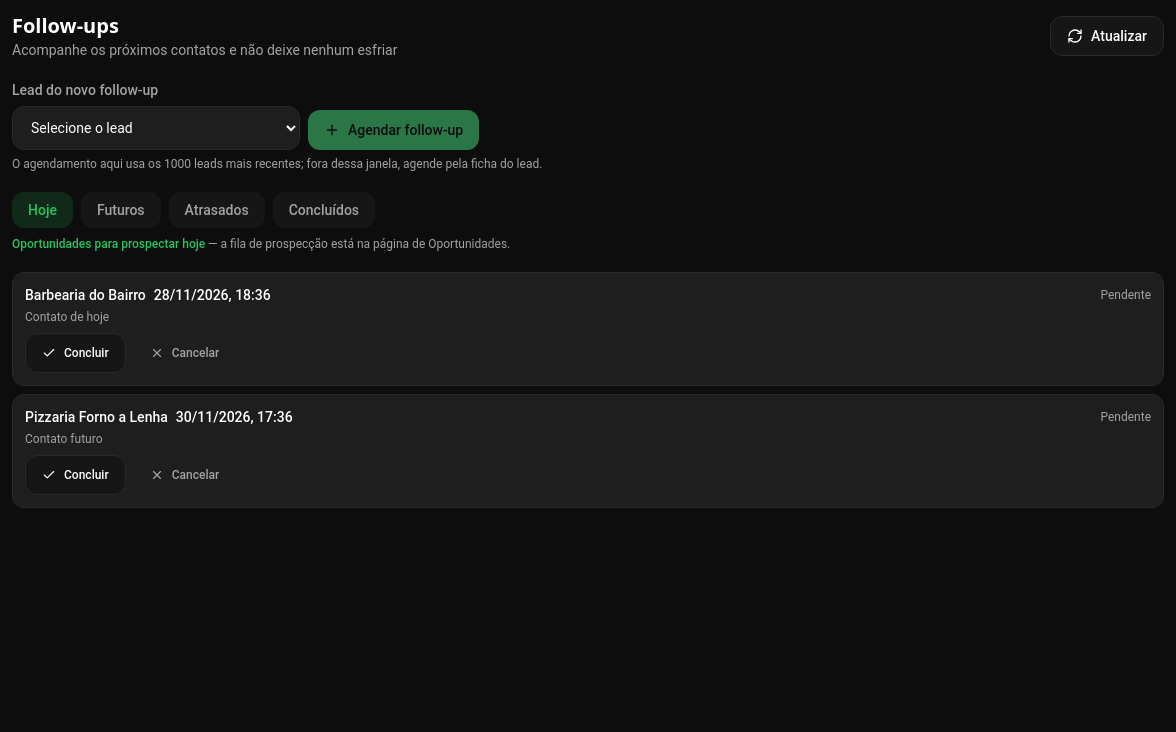
it: FollowUpsPage abas e consulta › cada aba pede o próprio valor de FollowupList
Expected: the text "Contato de hoje" is shown, [25,310,109,324]
Click the button "Atrasados": (217, 210) [169,192,265,228]
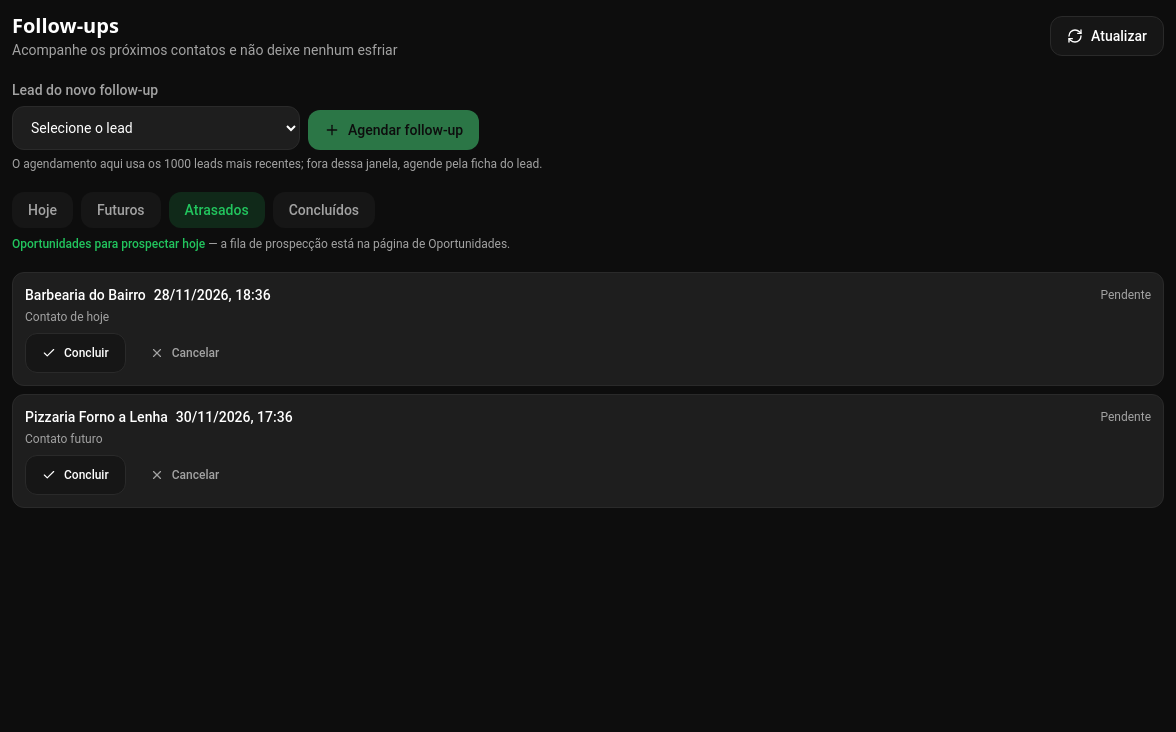
Result: the button "Atrasados" is pressed at [169,192,265,228]
Click the button "Futuros": (121, 210) [81,192,161,228]
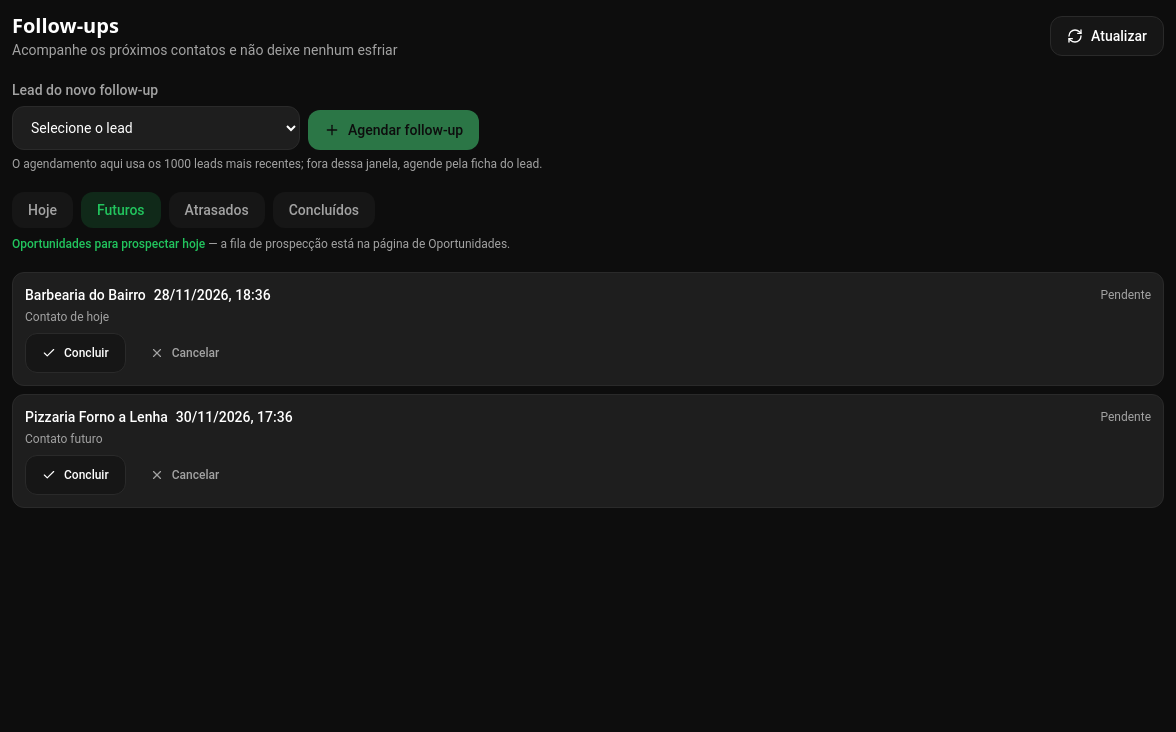
Result: the button "Futuros" is pressed at [81,192,161,228]
Click the button "Concluídos": (324, 210) [273,192,375,228]
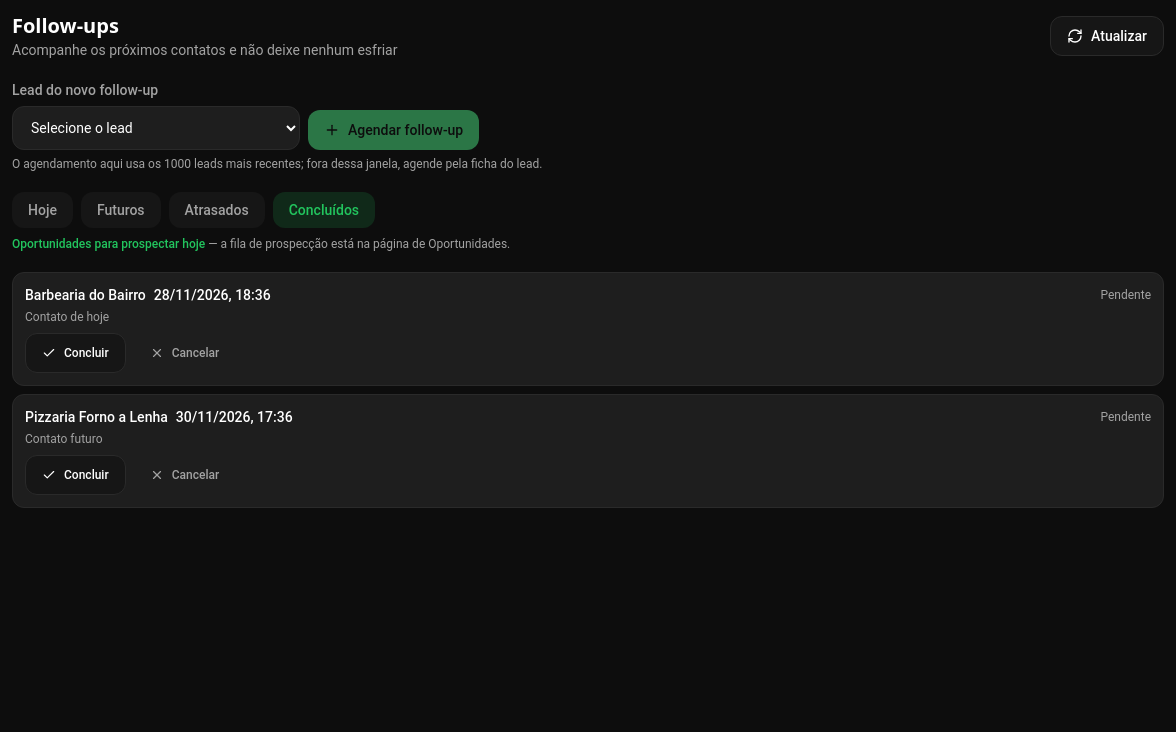
Result: the button "Concluídos" is pressed at [273,192,375,228]
Click the button "Hoje": (42, 210) [12,192,73,228]
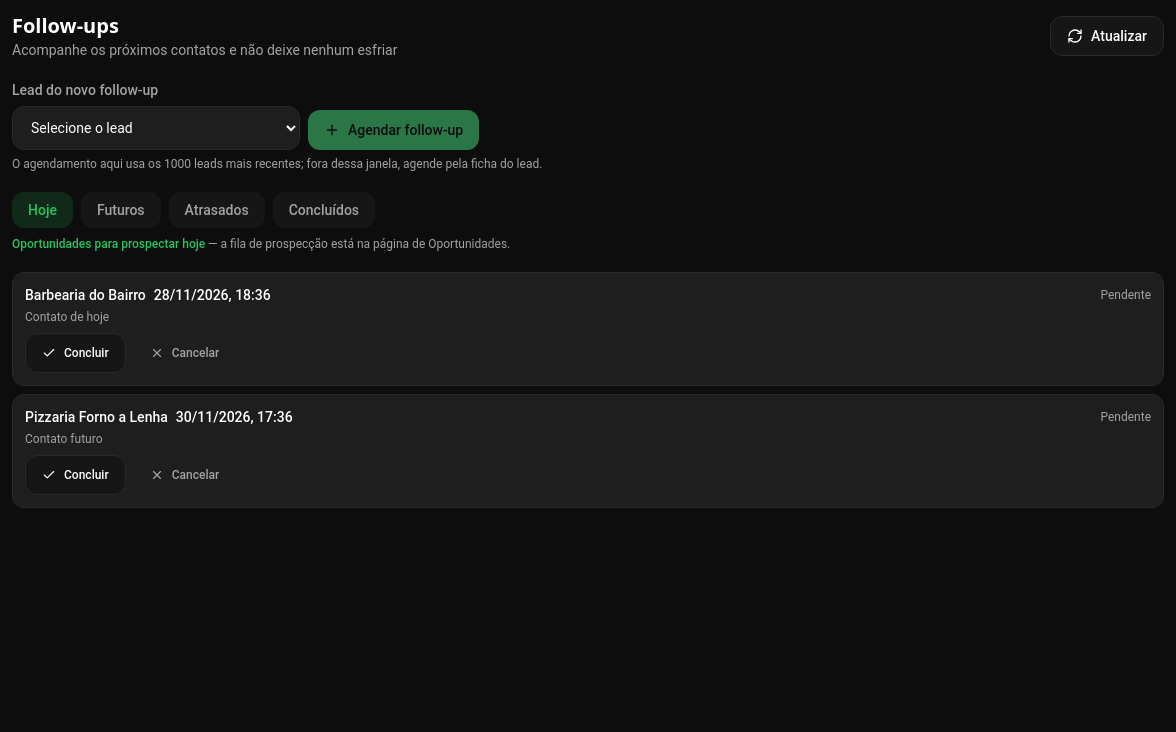
Result: the button "Hoje" is pressed at [12,192,73,228]
